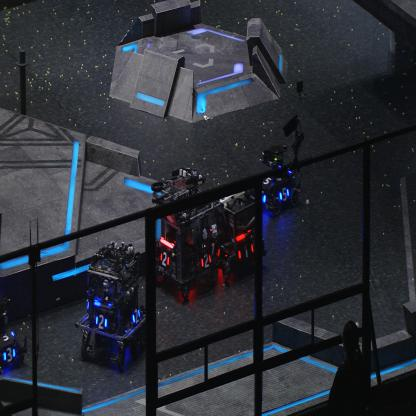car: (149, 164, 224, 302), (76, 239, 149, 367), (200, 189, 266, 274), (252, 144, 300, 216), (0, 297, 26, 374)
